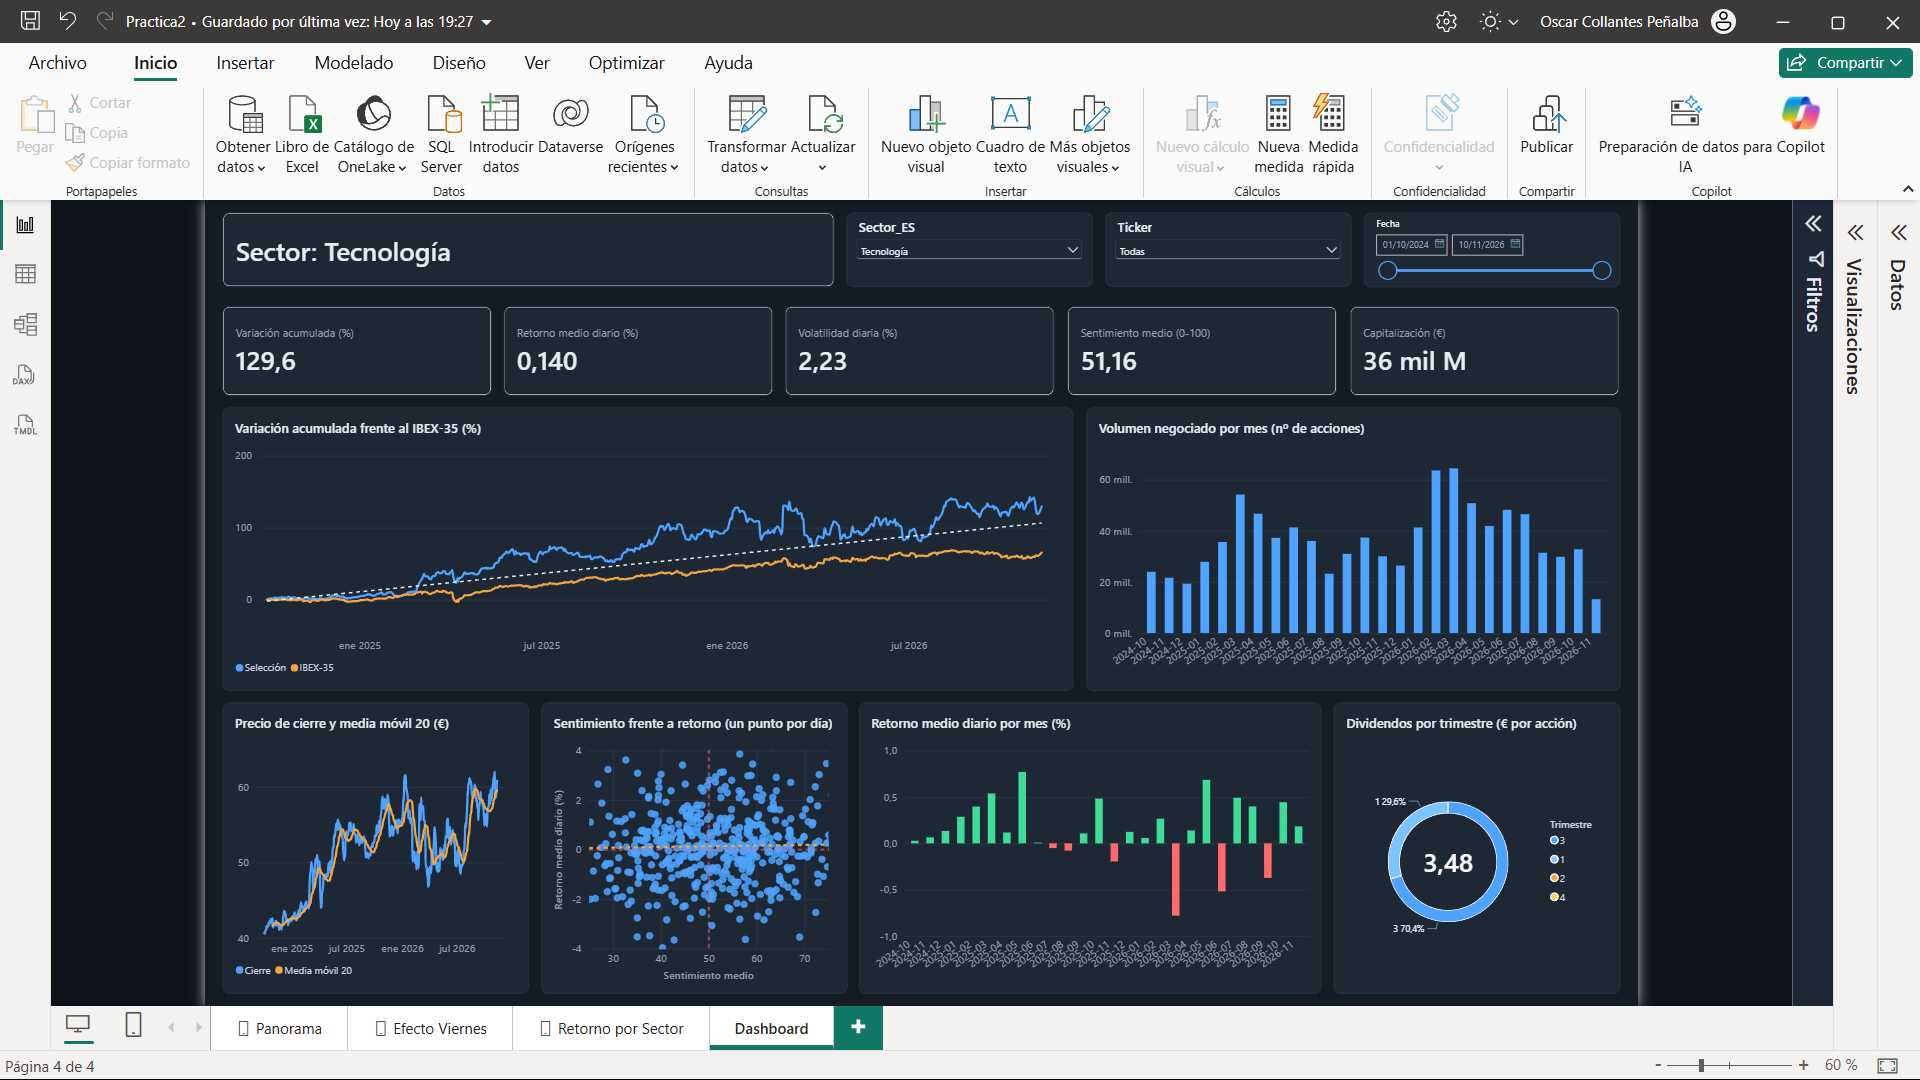

Layout of this report page (visuals, bound fields, positions):
{"tool":"powerbi","page":{"name":"Dashboard","canvas":[1920,1080],"ordinal":3},"visuals":[{"type":"slicer","fields":{"Values":["Empresa.Sector_ES"]},"box":[753.5,31.4,280.8,68],"z":0},{"type":"slicer","fields":{"Values":["Empresa.Ticker"]},"box":[1055.2,26.2,280.8,80.2],"z":1000},{"type":"slicer","fields":{"Values":["Fecha.Fecha"]},"box":[1360.5,19.2,280.8,95.9],"z":2000},{"type":"cardVisual","fields":{"Data":["Hechos.Variacion Acumulada"]},"box":[36.6,115.1,218,174.4],"z":3000},{"type":"cardVisual","fields":{"Data":["Hechos.Retorno Medio Diario"]},"box":[375,115.1,218,174.4],"z":4000},{"type":"cardVisual","fields":{"Data":["Hechos.Volatilidad Diaria"]},"box":[741.3,115.1,218,174.4],"z":5000},{"type":"cardVisual","fields":{"Data":["Hechos.Sentimiento Medio"]},"box":[1088.4,115.1,218,174.4],"z":6000},{"type":"cardVisual","fields":{"Data":["Hechos.Capitalizacion Total"]},"box":[1447.7,115.1,218,174.4],"z":7000},{"type":"lineChart","fields":{"Category":["Fecha.Fecha"],"Y":["Hechos.Var Acum Seleccion","Hechos.Var Acum IBEX"]},"box":[43.6,314,1058.7,376.7],"z":8000},{"type":"clusteredColumnChart","fields":{"Category":["Fecha.AnioMes"],"Y":["Sum(Hechos.Volume)"]},"box":[1133.7,314,736,376.7],"z":9000},{"type":"lineChart","fields":{"Category":["Fecha.Fecha"],"Y":["Avg(Hechos.Close)","Avg(Hechos.Media_Movil_20)"]},"box":[66.3,711.6,395.9,322.7],"z":10000},{"type":"scatterChart","fields":{"Category":["Fecha.Fecha"],"X":["Hechos.Sentimiento Medio"],"Y":["Hechos.Retorno Medio Diario"]},"box":[462.2,711.6,444.8,322.7],"z":11000},{"type":"clusteredColumnChart","fields":{"Category":["Fecha.AnioMes"],"Y":["Hechos.Retorno Medio Diario"]},"box":[907,711.6,610.5,322.7],"z":12000},{"type":"donutChart","fields":{"Category":["Fecha.Trimestre"],"Y":["Sum(Hechos.Dividends)"]},"box":[1517.4,711.6,385.5,322.7],"z":13000},{"type":"cardVisual","fields":{"Data":["Hechos.Titulo Dashboard"]},"box":[66.3,19.2,556.4,75],"z":13001}]}

Visuals, with their boxes on the page's 1920x1080 design canvas (x1, y1, x2, y2). These are canvas units, not pixel positions in the 1920x1080 screenshot, which may show the page scaled, cropped or inside an application window:
slicer - Empresa.Sector_ES: BBox(754, 31, 1034, 99)
slicer - Empresa.Ticker: BBox(1055, 26, 1336, 106)
slicer - Fecha.Fecha: BBox(1360, 19, 1641, 115)
cardVisual - Hechos.Variacion Acumulada: BBox(37, 115, 255, 290)
cardVisual - Hechos.Retorno Medio Diario: BBox(375, 115, 593, 290)
cardVisual - Hechos.Volatilidad Diaria: BBox(741, 115, 959, 290)
cardVisual - Hechos.Sentimiento Medio: BBox(1088, 115, 1306, 290)
cardVisual - Hechos.Capitalizacion Total: BBox(1448, 115, 1666, 290)
lineChart - Fecha.Fecha x Hechos.Var Acum Seleccion: BBox(44, 314, 1102, 691)
clusteredColumnChart - Fecha.AnioMes x Sum(Hechos.Volume): BBox(1134, 314, 1870, 691)
lineChart - Fecha.Fecha x Avg(Hechos.Close): BBox(66, 712, 462, 1034)
scatterChart - Fecha.Fecha x Hechos.Sentimiento Medio: BBox(462, 712, 907, 1034)
clusteredColumnChart - Fecha.AnioMes x Hechos.Retorno Medio Diario: BBox(907, 712, 1518, 1034)
donutChart - Fecha.Trimestre x Sum(Hechos.Dividends): BBox(1517, 712, 1903, 1034)
cardVisual - Hechos.Titulo Dashboard: BBox(66, 19, 623, 94)
